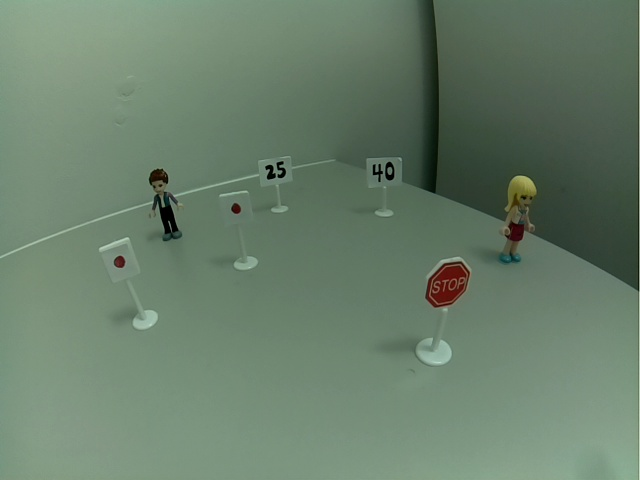people: (496, 173, 537, 266), (144, 167, 186, 243)
red light: (97, 235, 142, 286), (217, 189, 256, 230)
speed 25: (258, 154, 294, 188)
speed 40: (364, 154, 404, 190)
stop: (423, 254, 473, 312)
